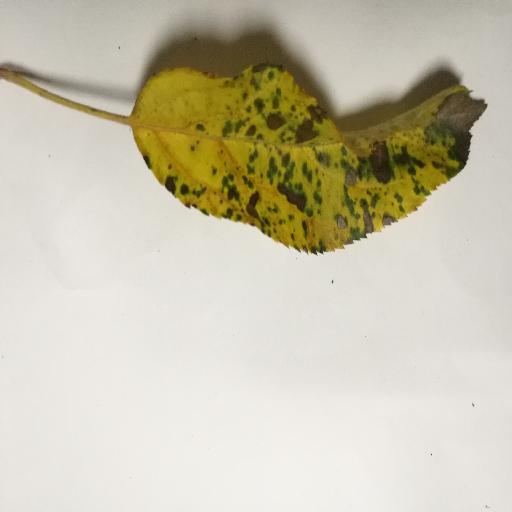Brown_Spot: (132, 18, 487, 301)
